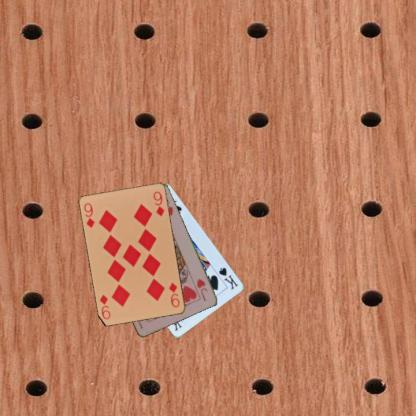9d: (166, 280, 181, 309), (82, 201, 96, 230)
Jh: (194, 276, 209, 303)
Ks: (217, 265, 239, 291)
